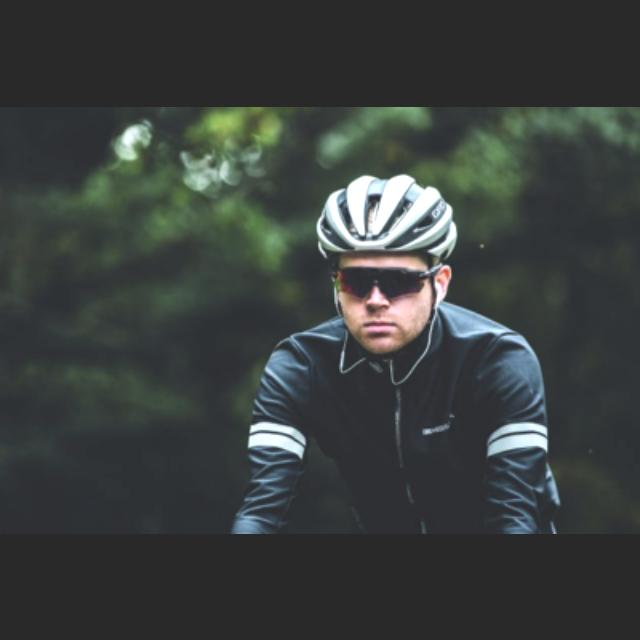With Helmet: (313, 170, 459, 358)
